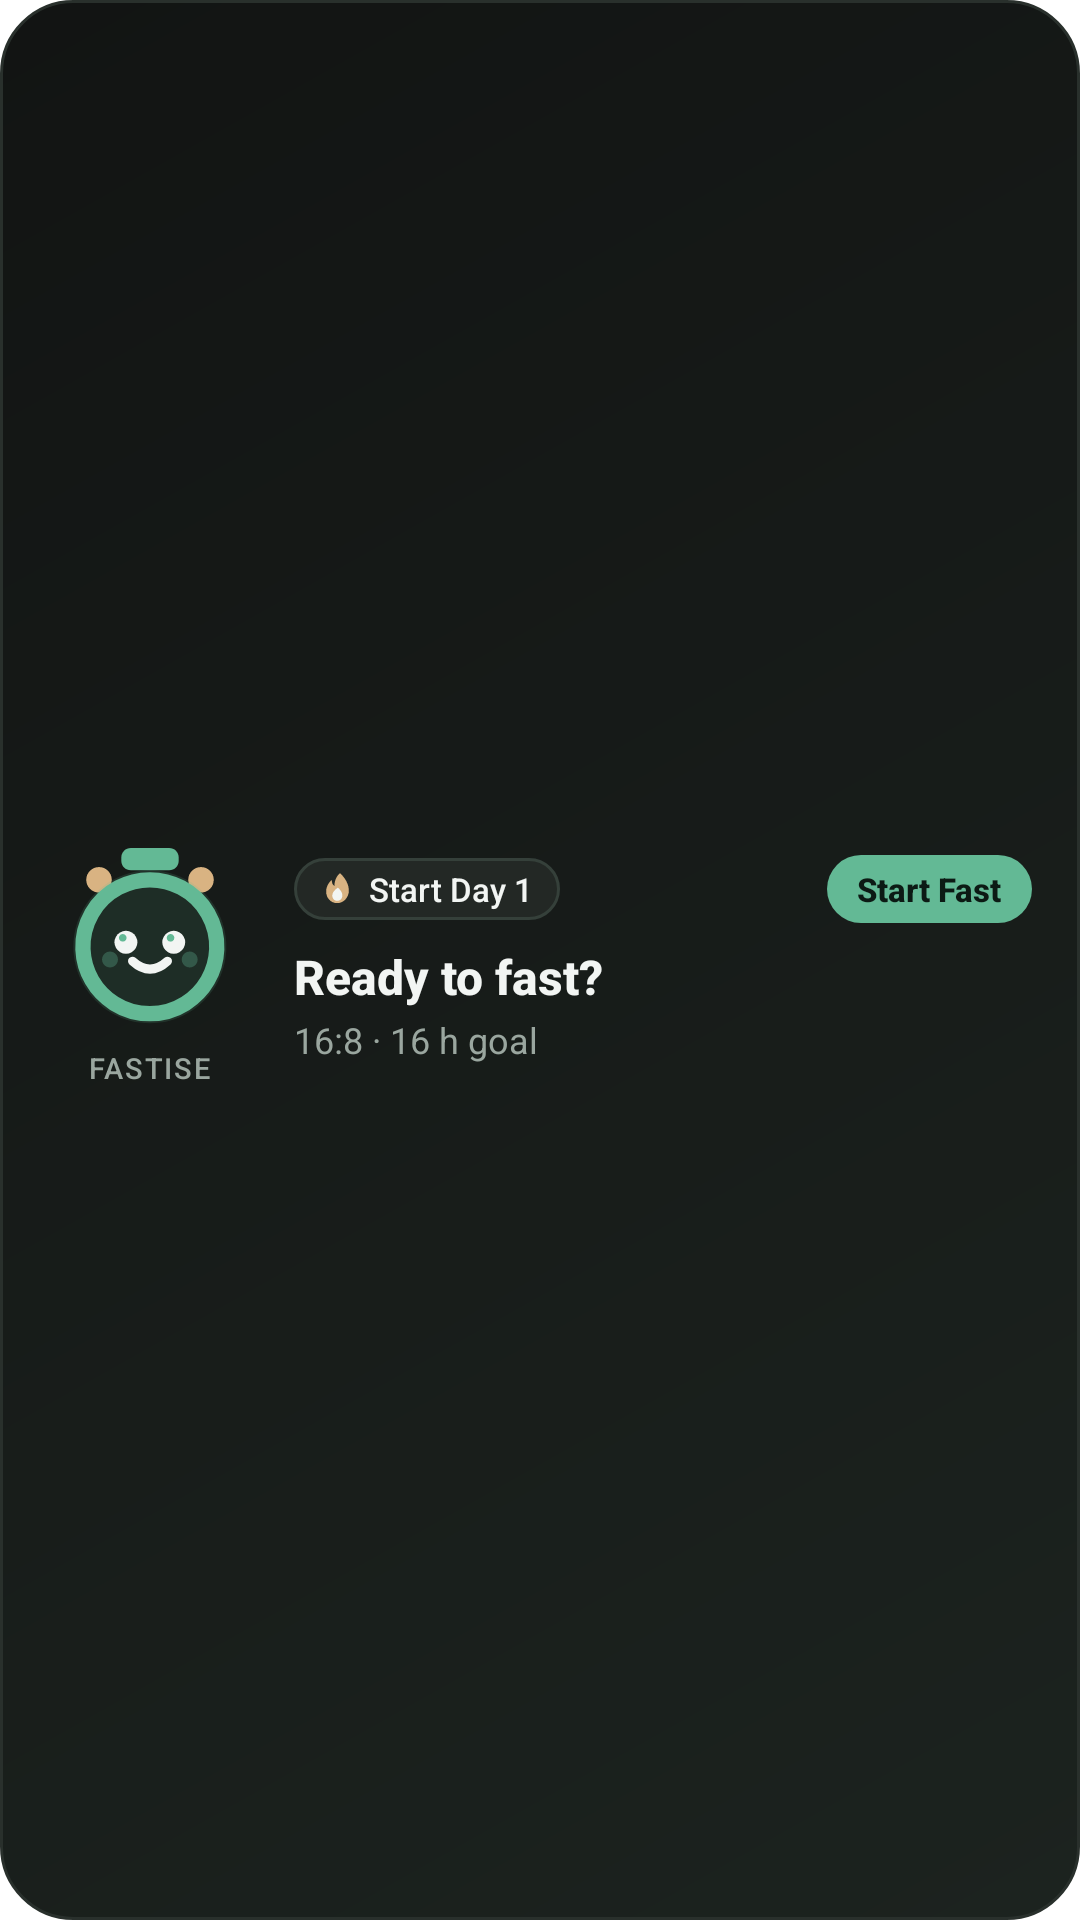

Icons on this 1080 × 1920 Android screen, each with its box as (x1, y1, x2, y2):
Fasty mascot: (73, 848, 226, 1023)
